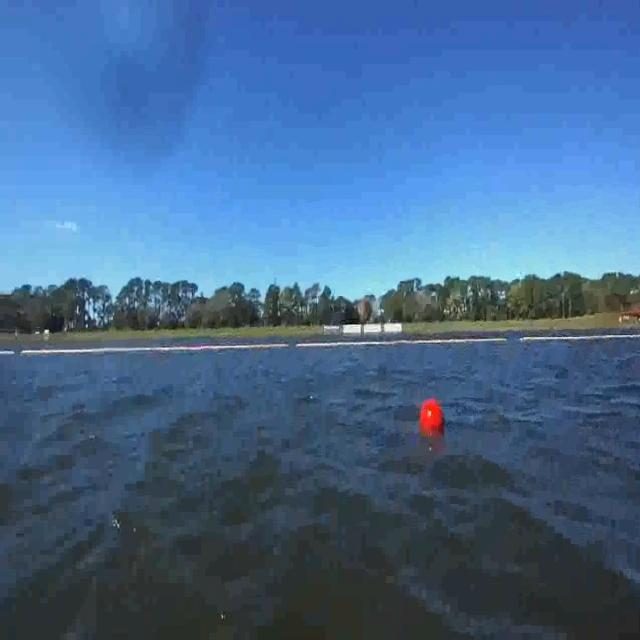red-buoy: (420, 399, 444, 439)
